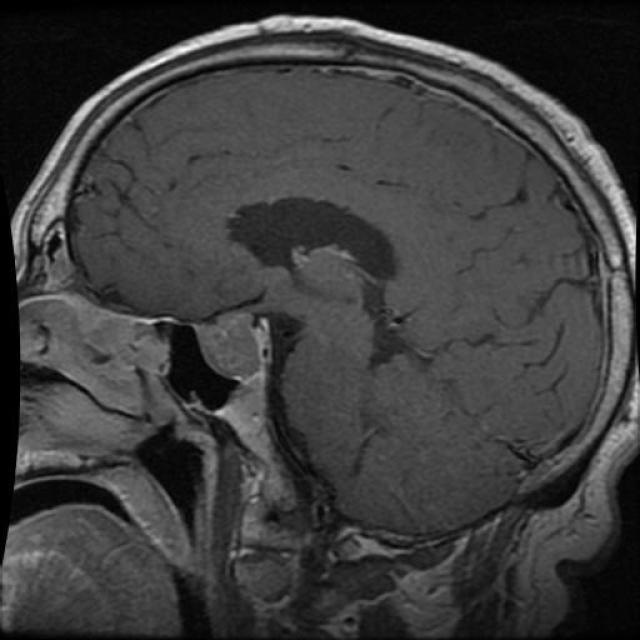pituitary: (182, 314, 285, 397)
